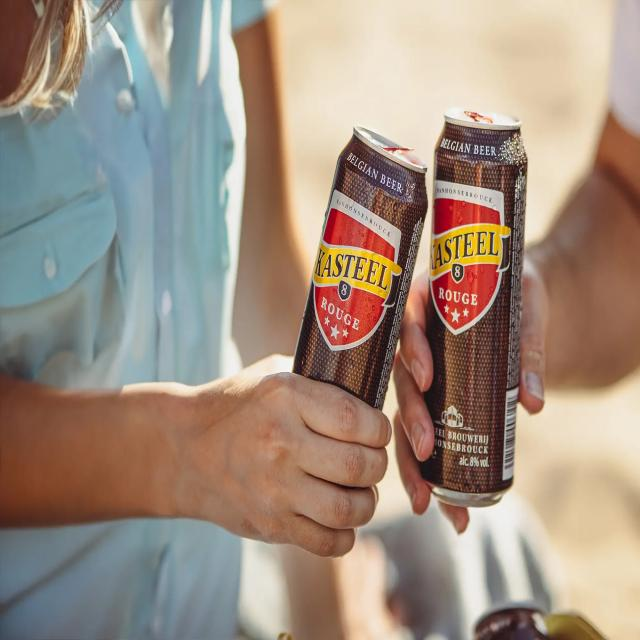can: (422, 106, 528, 511), (293, 122, 429, 417)
